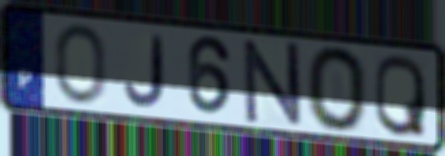6: (186, 33, 233, 121)
J: (122, 32, 168, 110)
N: (240, 38, 305, 128)
O: (304, 44, 370, 136), (51, 21, 109, 108)
Q: (372, 51, 429, 140)
